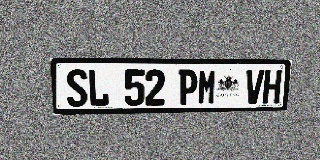2: (145, 69, 165, 106)
5: (125, 69, 145, 106)
H: (262, 69, 282, 104)
L: (87, 69, 109, 107)
M: (197, 69, 217, 105)
P: (178, 69, 198, 105)
S: (65, 69, 88, 107)
V: (244, 69, 264, 104)
